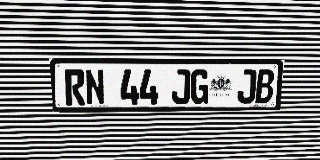4: (120, 69, 139, 105), (140, 69, 159, 105)
B: (255, 69, 275, 103)
G: (190, 69, 210, 104)
J: (237, 69, 257, 103), (172, 69, 191, 104)
N: (85, 69, 105, 105)
R: (64, 69, 85, 105)
